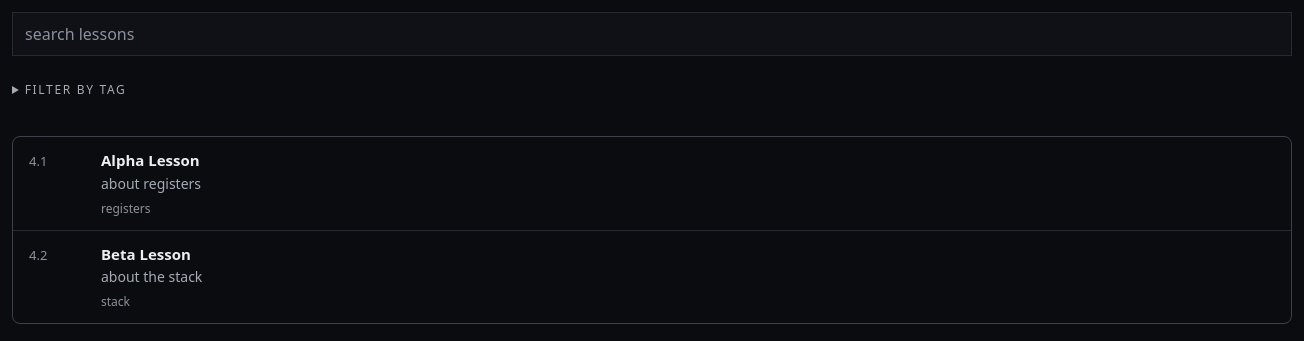
Test: LessonIndex › filters by the search query and exposes an accessible search name
The image size is (1304, 341).
Type "Alpha" into the search field labelled "search lessons" at (652, 34), box x1=12 y1=12 x2=1292 y2=56
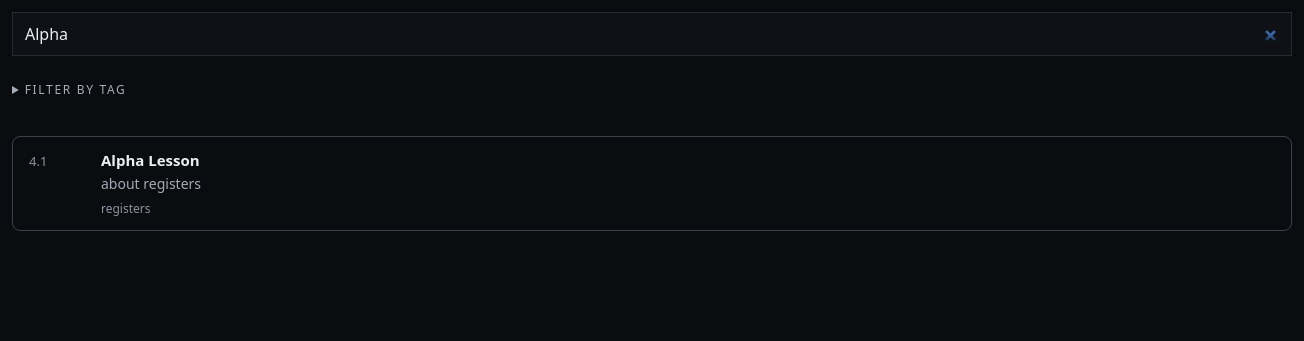
Expected: the text "Alpha Lesson" is shown, x1=101 y1=150 x2=200 y2=170
Result: the link "Beta Lesson" is gone
